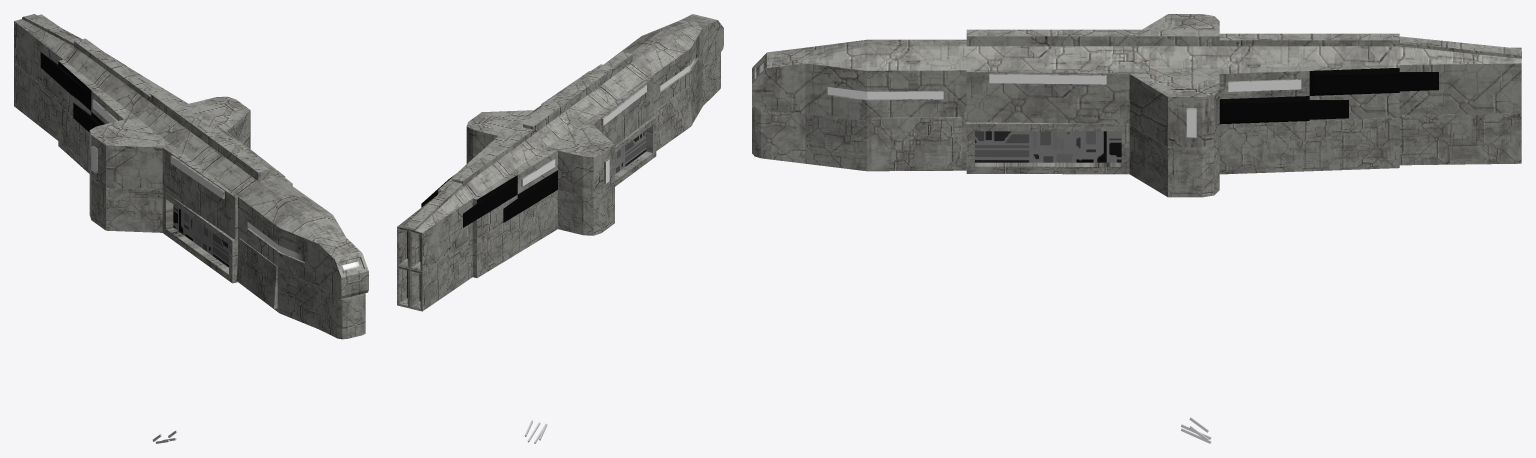
The model's file is battleship.fbx.
3 renders of one model, left to right at view 1: azimuth 30°, elevation 25°; view 2: azimuth 150°, elevation 25°; view 3: azimuth 270°, elevation 25°, orthographic. The views are drawn at different scales.
Parts seen in each view (by area): view 1: Dreadnaught, BottomHalf, TopPlates, Engine, Windows; view 2: Dreadnaught, BottomHalf, TopPlates, Windows, Engine; view 3: Dreadnaught, BottomHalf, TopPlates, Engine, Windows.
Boxes of the visible parts, bbox=[...] form: Dreadnaught: bbox=[14, 14, 368, 299]; BottomHalf: bbox=[14, 64, 365, 339]; TopPlates: bbox=[40, 52, 125, 132]; Engine: bbox=[173, 204, 228, 267]; Windows: bbox=[91, 100, 359, 270]; Dreadnaught: bbox=[397, 14, 723, 271]; BottomHalf: bbox=[397, 52, 720, 311]; TopPlates: bbox=[421, 170, 557, 227]; Windows: bbox=[522, 54, 696, 186]; Engine: bbox=[615, 130, 646, 174]; Dreadnaught: bbox=[752, 14, 1521, 147]; BottomHalf: bbox=[752, 106, 1521, 197]; TopPlates: bbox=[1219, 67, 1438, 124]; Engine: bbox=[975, 131, 1121, 162]; Windows: bbox=[759, 63, 1301, 137].
Size of the model in its own units: 25.99 by 57.83 by 98.71.
